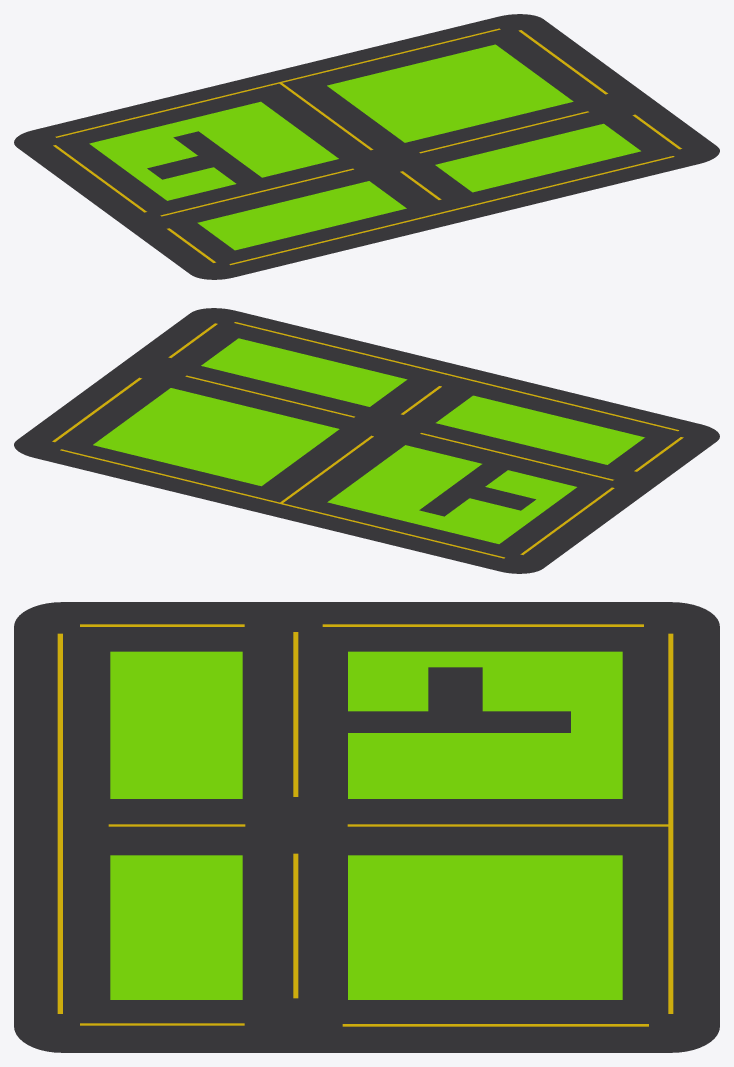
The model's file is road.glb.
3 renders of one model, top to bottom at view 1: azimuth 30°, elevation 25°; view 2: azimuth 150°, elevation 25°; view 3: azimuth 270°, elevation 25°, orthographic. The views are drawn at different scales.
Visible parts, largest first — view 1: road.002, Plane.002, yello_line_part.006, yello_line_part.005; view 2: road.002, Plane.002, yello_line_part.006, yello_line_part.005; view 3: road.002, Plane.002, yello_line_part.005, yello_line_part.006, yello_line_part.004, yello_line_part.001, yello_line_part.007, yello_line_part.008, yello_line_part.
Part boxes in pixels (x1,y1,x2,y2): road.002: (14,14,719,279); Plane.002: (89,44,640,250); yello_line_part.006: (229,156,674,265); yello_line_part.005: (55,28,500,137); road.002: (14,308,719,573); Plane.002: (93,338,644,543); yello_line_part.006: (234,322,678,431); yello_line_part.005: (60,449,504,558); road.002: (14,602,719,1052); Plane.002: (110,651,622,999); yello_line_part.005: (668,633,673,1013); yello_line_part.006: (57,633,62,1013); yello_line_part.004: (293,632,298,796); yello_line_part.001: (347,824,672,826); yello_line_part.007: (322,624,643,626); yello_line_part.008: (342,1024,648,1026); yello_line_part: (293,853,298,998).
Size of the model in its own units: 5.12 by 0.0187 by 3.39.
